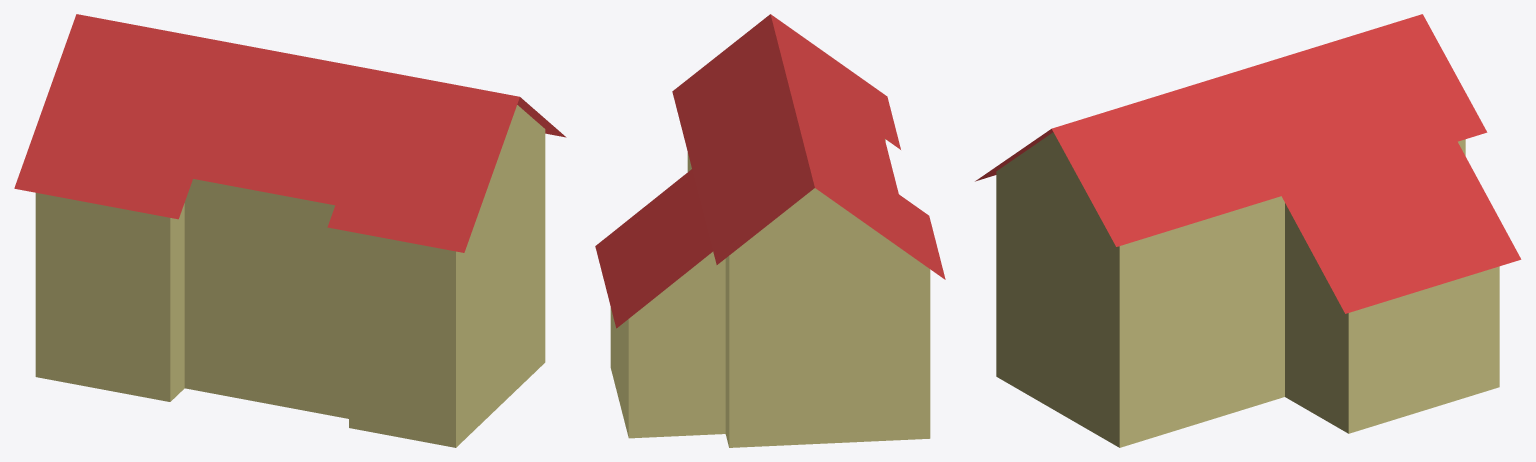
3 views of the same model, side by side, from view 1: azimuth 30°, elevation 25°; view 2: azimuth 150°, elevation 25°; view 3: azimuth 270°, elevation 25° (orthographic). The views are drawn at different scales.
Bounding box in the file's own units: 23.04 × 26.38 × 15.49.
